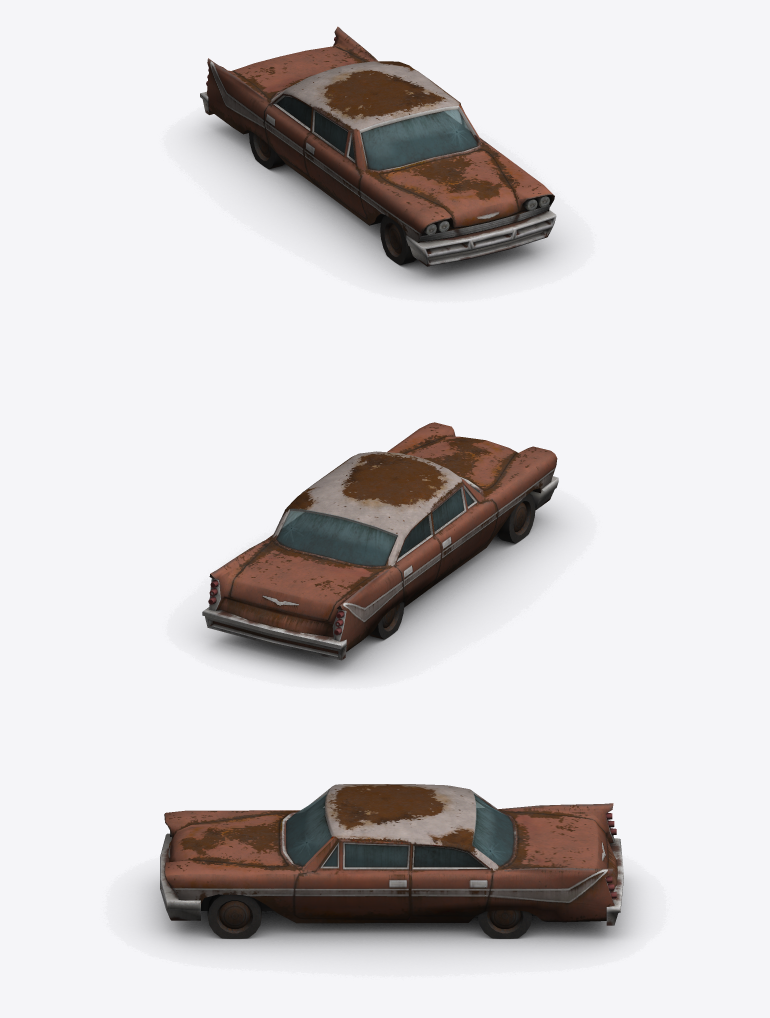
The model's file is old_rusty_car_2.glb.
3 renders of one model, top to bottom at view 1: azimuth 30°, elevation 25°; view 2: azimuth 150°, elevation 25°; view 3: azimuth 270°, elevation 25°, orthographic. The views are drawn at different scales.
Visible parts, largest first — view 1: Object001_Material #37_0, Plane001, Object002_Material #33_0; view 2: Object001_Material #37_0, Plane001, Object002_Material #33_0; view 3: Object001_Material #37_0, Plane001, Object002_Material #33_0.
Boxes of the visible parts, box(x1,y1,x2,y2) form: Object001_Material #37_0: box(200, 26, 556, 266); Plane001: box(201, 117, 556, 286); Object002_Material #33_0: box(276, 93, 477, 170); Object001_Material #37_0: box(202, 422, 558, 660); Plane001: box(203, 506, 559, 677); Object002_Material #33_0: box(276, 485, 479, 566); Object001_Material #37_0: box(160, 784, 623, 938); Plane001: box(146, 876, 634, 949); Object002_Material #33_0: box(286, 794, 514, 867).
Size of the model in its own units: 277 by 70.7 by 452.
3 materials, 3 textured.
